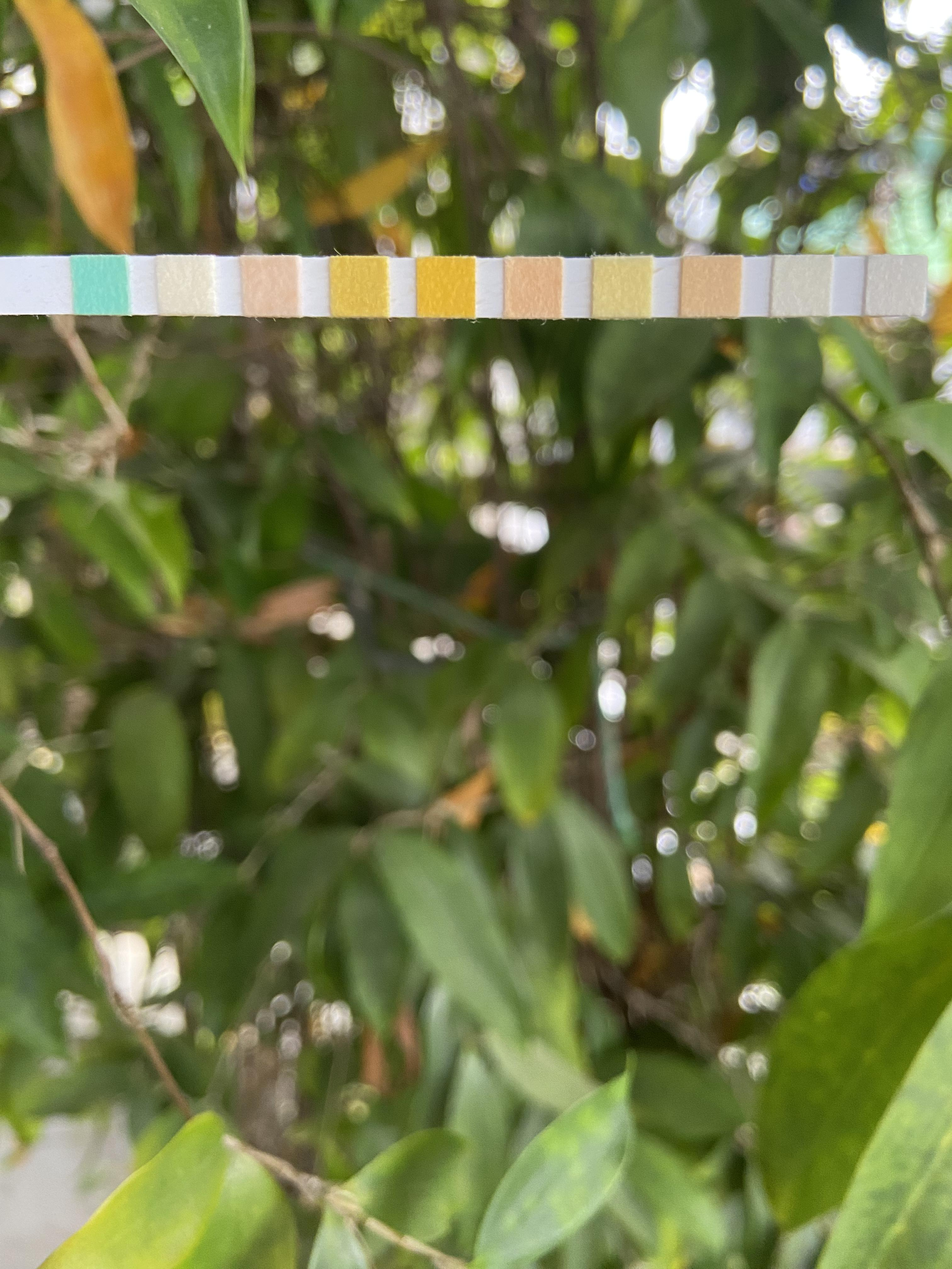Bilirubin: (162, 257, 213, 315)
Blood: (419, 258, 473, 317)
Glucose: (77, 257, 127, 313)
Ketone: (246, 257, 295, 316)
Leukocytes: (869, 258, 924, 314)
Nitrite: (774, 256, 828, 316)
Protein: (596, 258, 650, 317)
SpGravity: (332, 257, 387, 314)
Urobilinogen: (684, 258, 739, 317)
pH: (506, 258, 560, 317)
strip: (1, 255, 927, 318)
